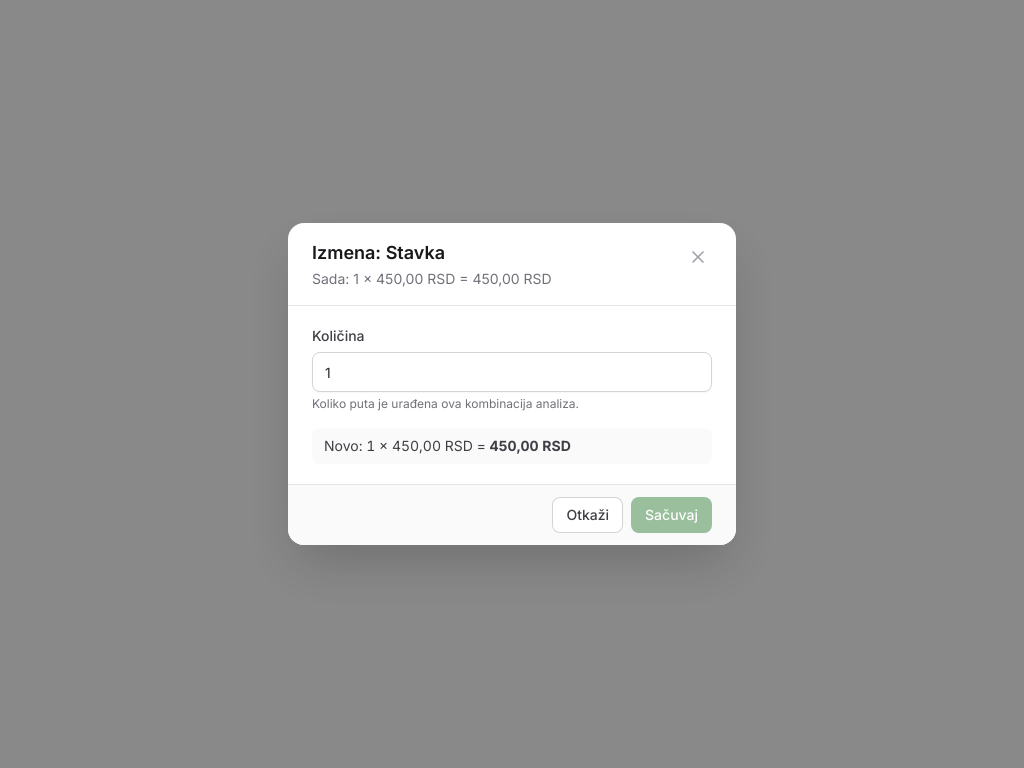
Scenario: EditItemDialog › analize: samo ceo broj
Clear the field labelled "Količina" at (512, 372), box [312,352,712,392]
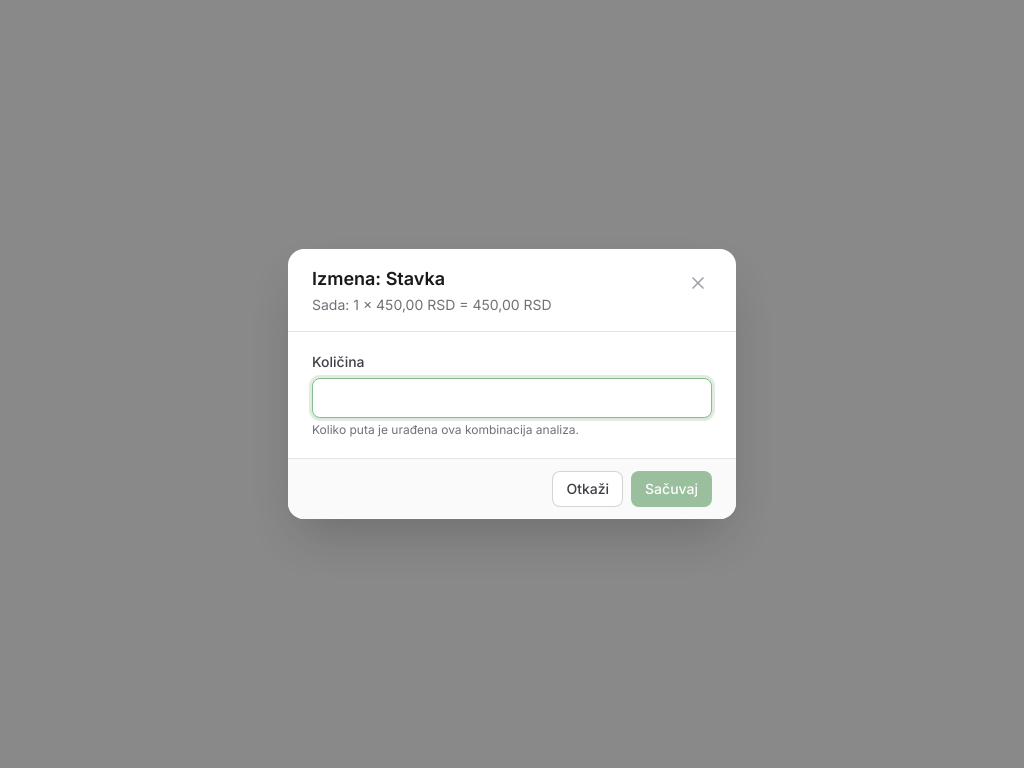
Type "1,5" into the field labelled "Količina" at (512, 398), box [312,378,712,418]
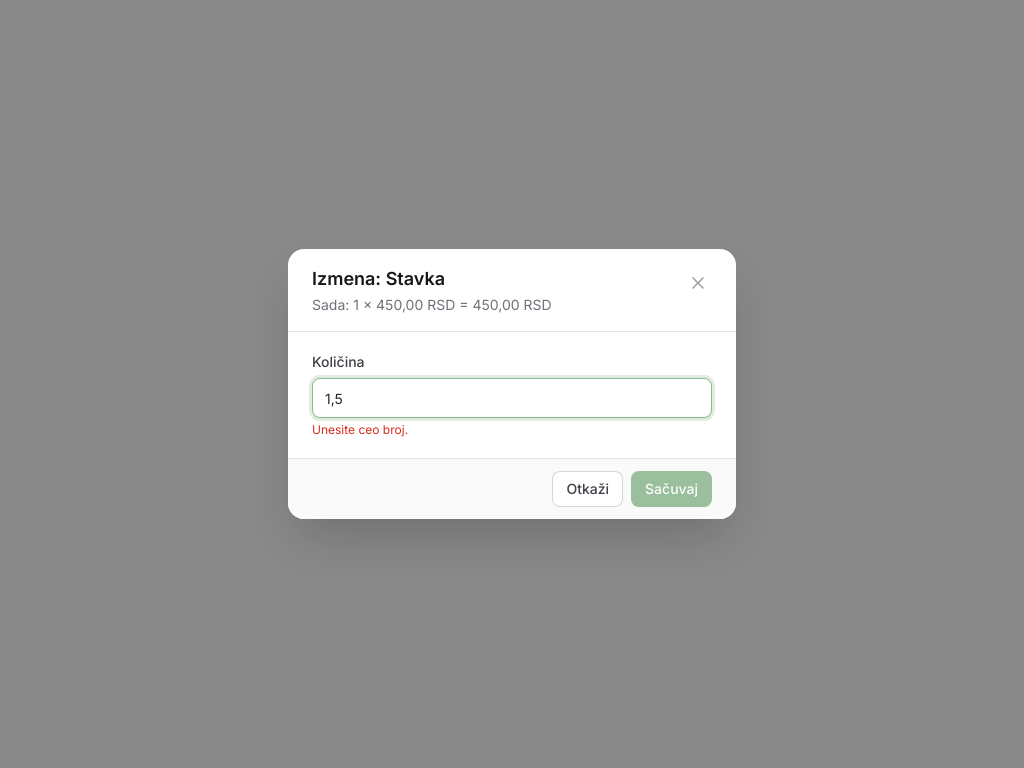
Expected: the button "Sačuvaj" is disabled, [631,471,712,507]
Now the text "Unesite ceo broj." is shown, box [312,422,408,437]
